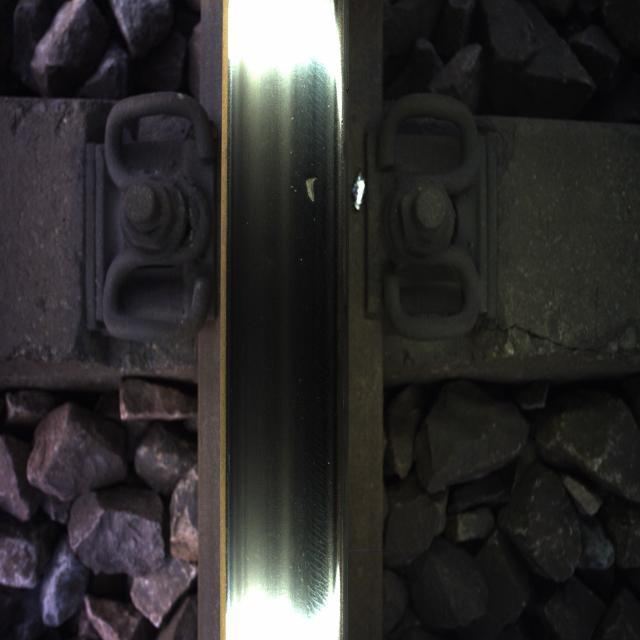normal: (229, 48, 331, 612)
